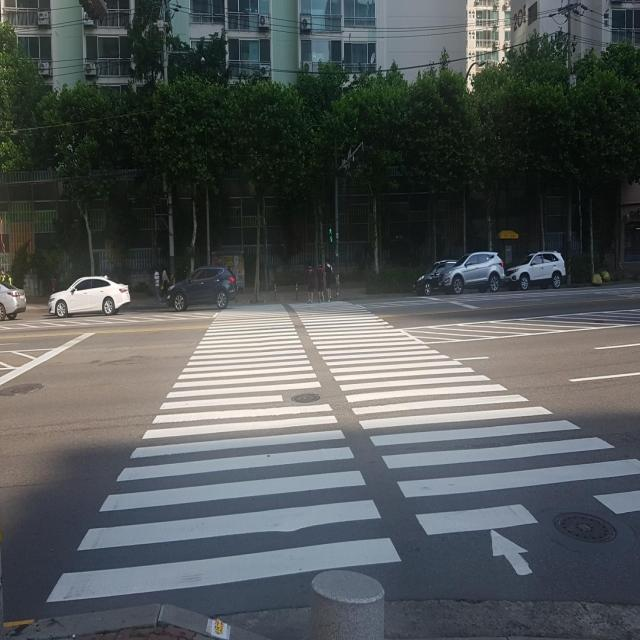초록불: (326, 213, 333, 249)
횡단보도: (46, 306, 640, 603)
